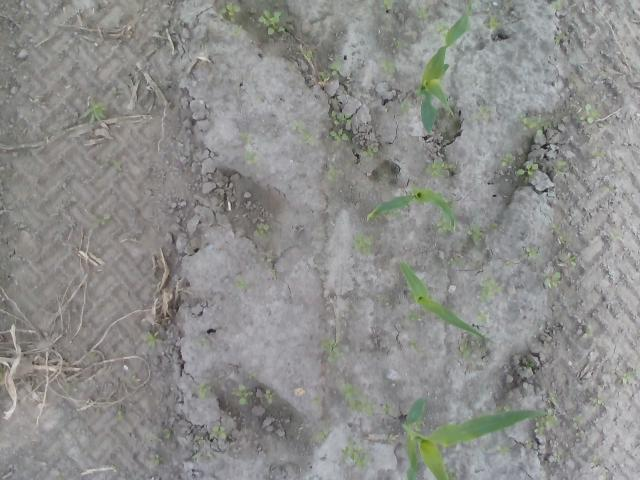Maize: (401, 395, 550, 480), (398, 260, 500, 344), (419, 4, 476, 132), (364, 188, 458, 236)
Weeds: (336, 383, 376, 415), (342, 442, 376, 470), (79, 97, 105, 126), (532, 410, 556, 440), (521, 114, 553, 136), (256, 10, 282, 36), (288, 120, 314, 146), (318, 60, 344, 82), (478, 276, 500, 302), (324, 110, 354, 128), (426, 161, 456, 179), (192, 434, 212, 460), (615, 368, 640, 388), (321, 340, 341, 364), (232, 384, 252, 408), (140, 330, 162, 349), (102, 154, 122, 174), (474, 305, 494, 324), (220, 2, 242, 19), (517, 162, 540, 178), (578, 106, 597, 125), (542, 272, 562, 290), (90, 213, 111, 230), (467, 224, 483, 246), (353, 234, 372, 252), (260, 257, 276, 278), (252, 222, 270, 240), (328, 127, 347, 144), (474, 106, 491, 124), (210, 426, 227, 444), (313, 427, 331, 444), (434, 18, 452, 35), (198, 380, 212, 401), (564, 252, 582, 268), (194, 338, 212, 354), (378, 58, 397, 73), (326, 163, 340, 183), (358, 145, 378, 159), (522, 245, 542, 259), (587, 149, 609, 161), (233, 274, 249, 290), (244, 150, 258, 166), (502, 261, 518, 275), (260, 389, 273, 405), (501, 154, 515, 168), (152, 452, 166, 466), (382, 403, 396, 417), (299, 48, 315, 60), (458, 340, 470, 356), (162, 428, 174, 442), (392, 38, 404, 52), (404, 312, 420, 322), (554, 34, 570, 44), (497, 444, 510, 456), (400, 98, 411, 112), (453, 257, 468, 267), (486, 16, 498, 28), (414, 8, 426, 20), (380, 1, 394, 11), (114, 409, 124, 423), (549, 1, 563, 10), (612, 231, 626, 240), (239, 132, 251, 142), (312, 395, 322, 406), (230, 22, 240, 32), (249, 368, 258, 378), (558, 160, 567, 167)
